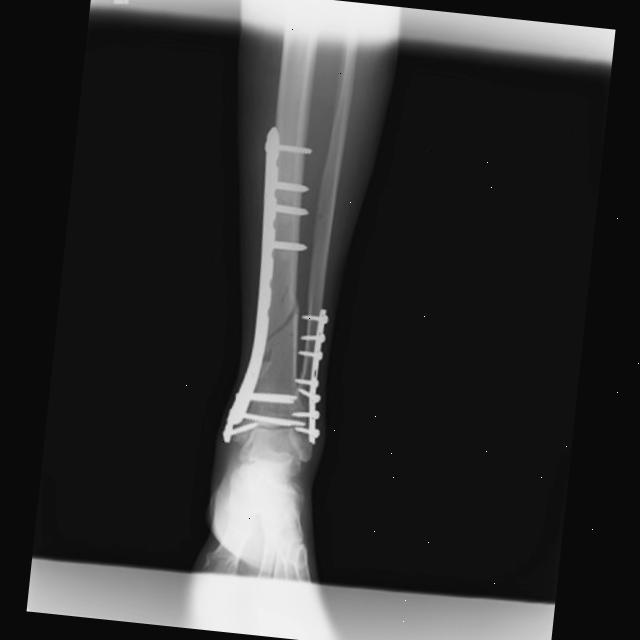fractured: (258, 282, 299, 382), (299, 367, 310, 380)
